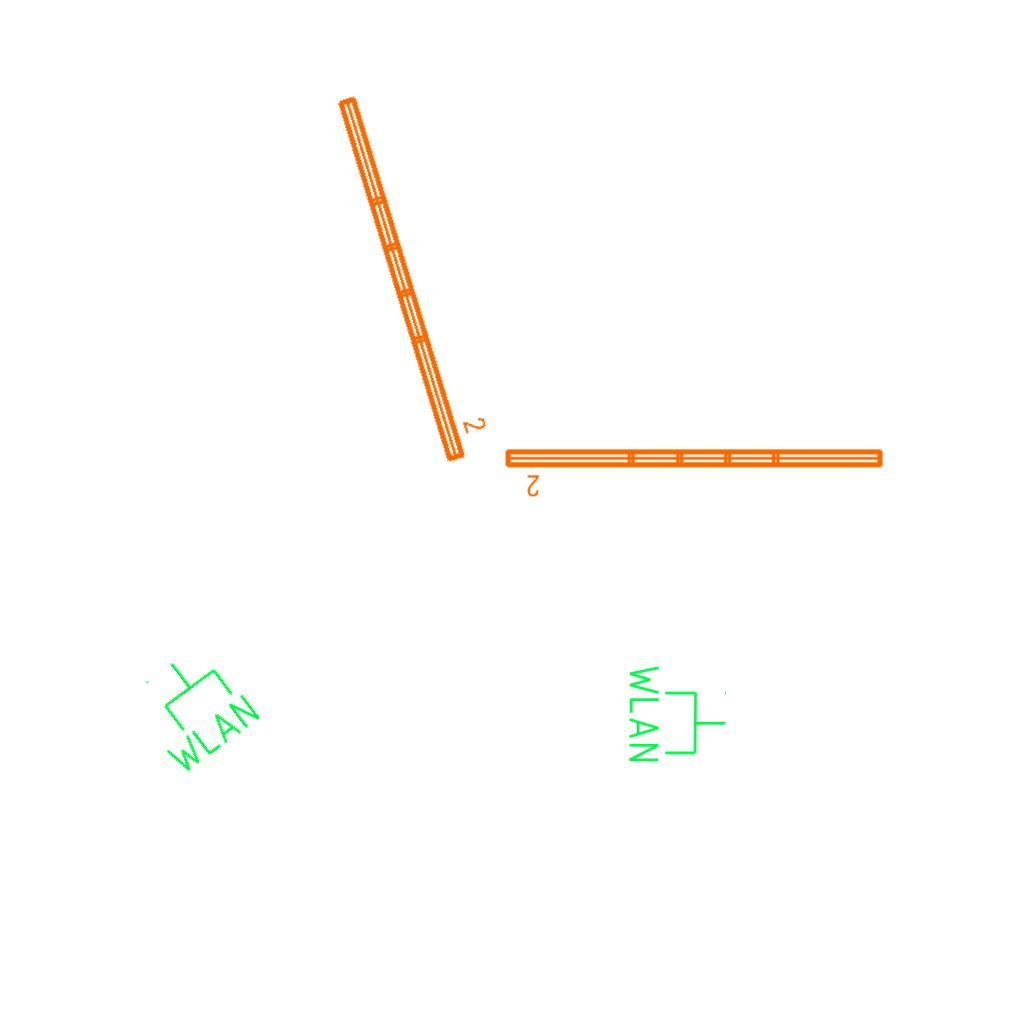Ambulanz_Pendelleuchte_LED: (330, 81, 497, 469), (501, 443, 888, 499)
WLAN: (119, 635, 267, 782), (625, 661, 729, 766)
